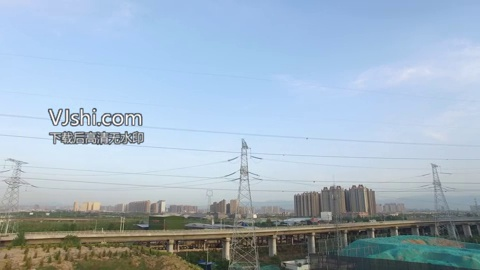tower_up: (224, 132, 262, 266), (425, 159, 463, 244)
